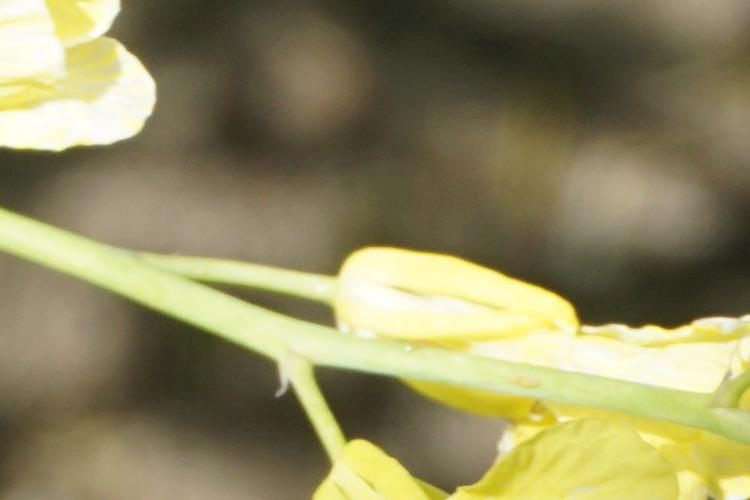bud: (335, 238, 582, 367)
white: (1, 1, 160, 159)
yellow: (275, 384, 692, 500)
